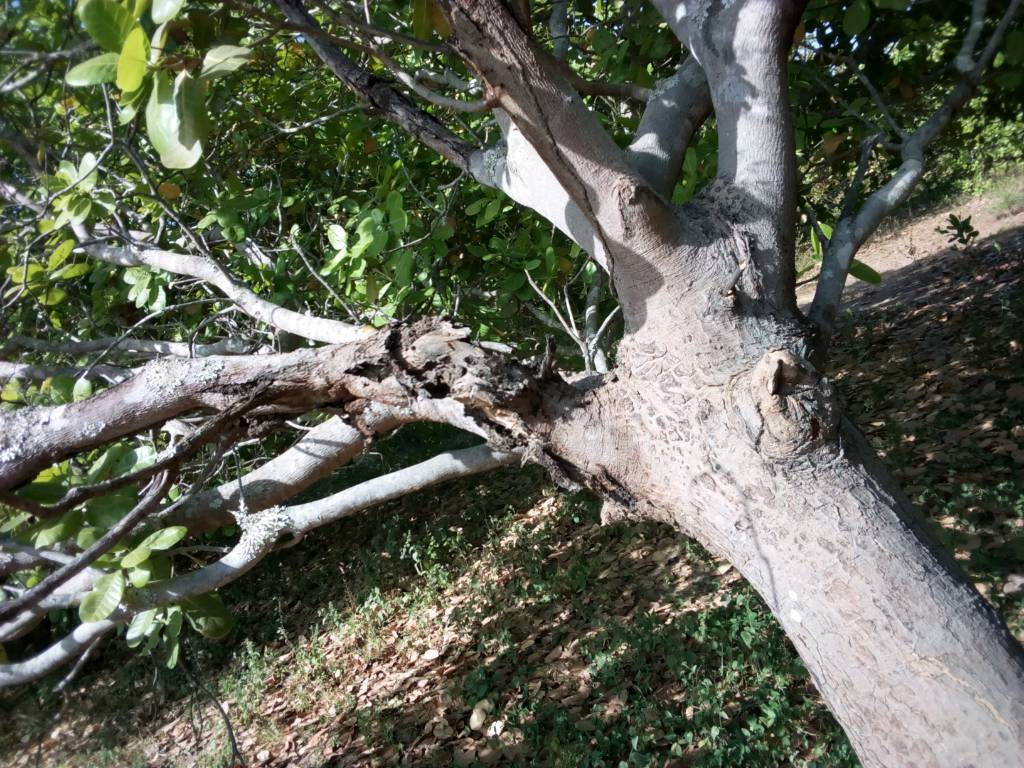Termites: (317, 319, 614, 475), (500, 49, 654, 241)
